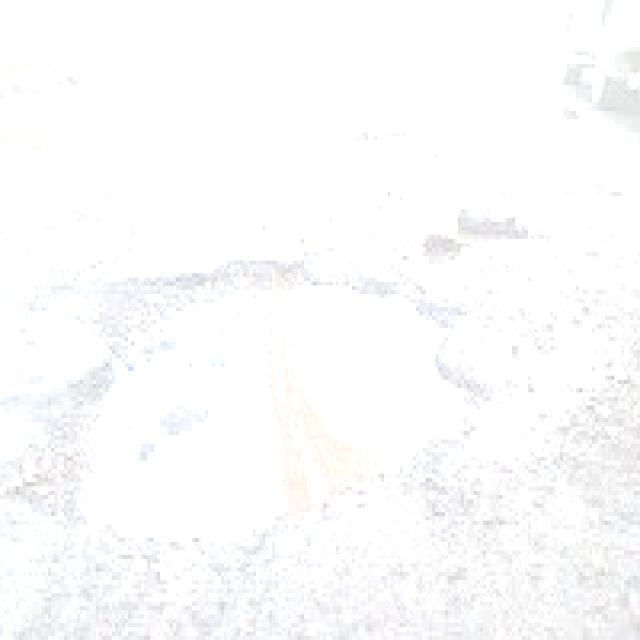Pothole: (0, 248, 493, 550), (308, 102, 580, 263), (0, 76, 230, 217)
